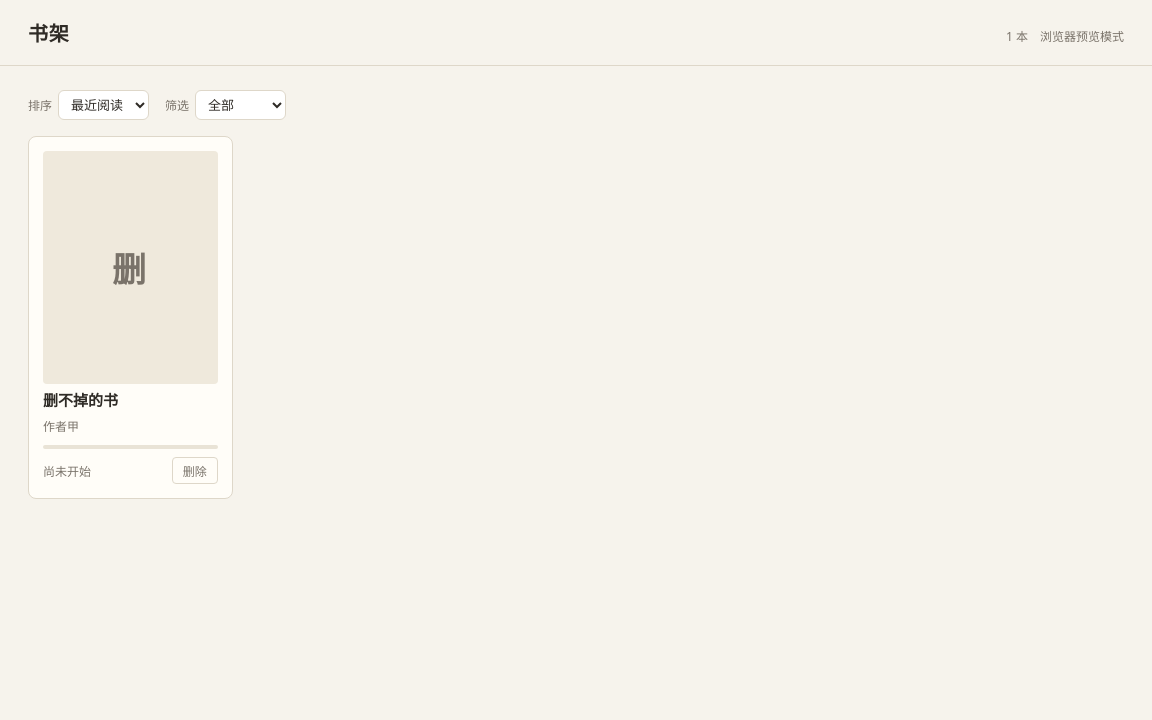
Test: Bookshelf › 删除失败时展示错误横幅而不是崩溃
Expected: the heading "删不掉的书" is shown, [43,390,118,411]
Click the button with aria-label "删除《删不掉的书》" at (195, 471), box [172,457,218,484]
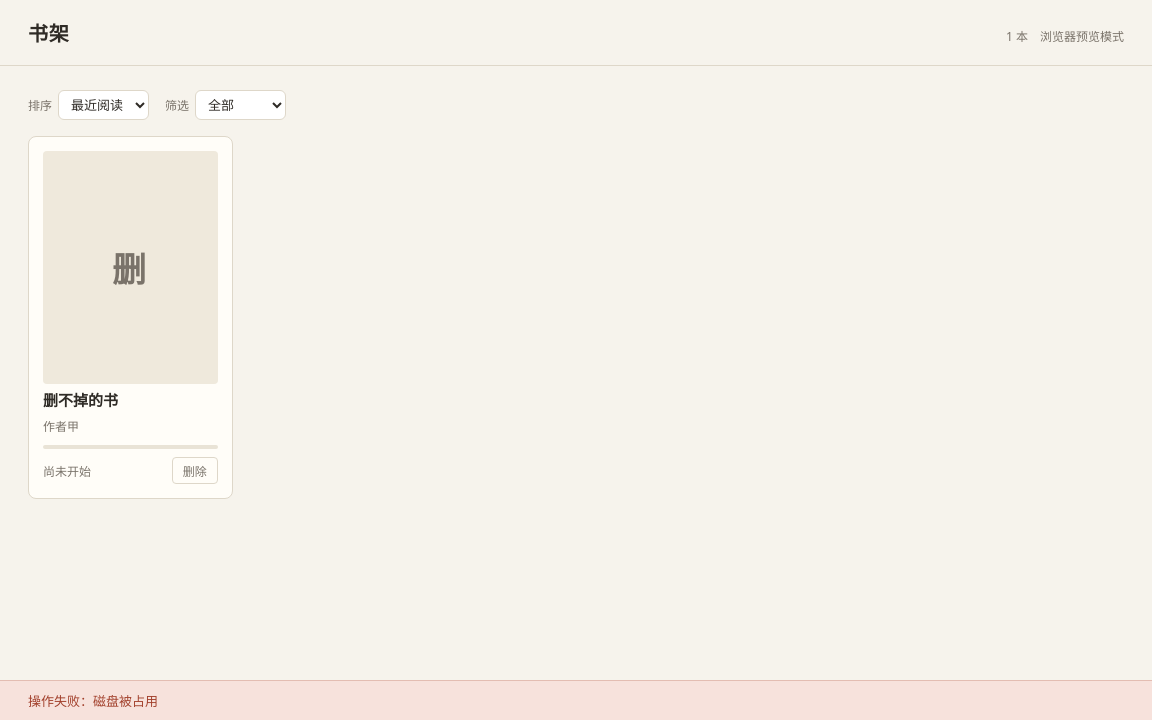
Expected: the heading "删不掉的书" is shown, [43,390,118,411]
Result: the text "操作失败：磁盘被占用" is shown at [0,680,1151,719]
